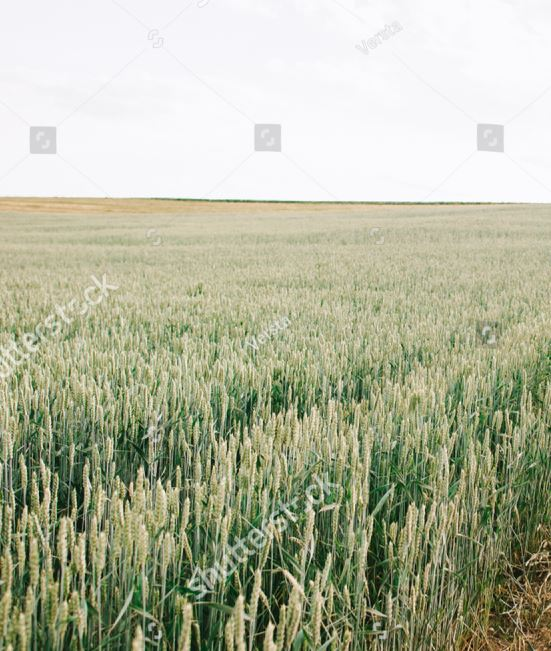Wheat: (18, 305, 469, 641)
